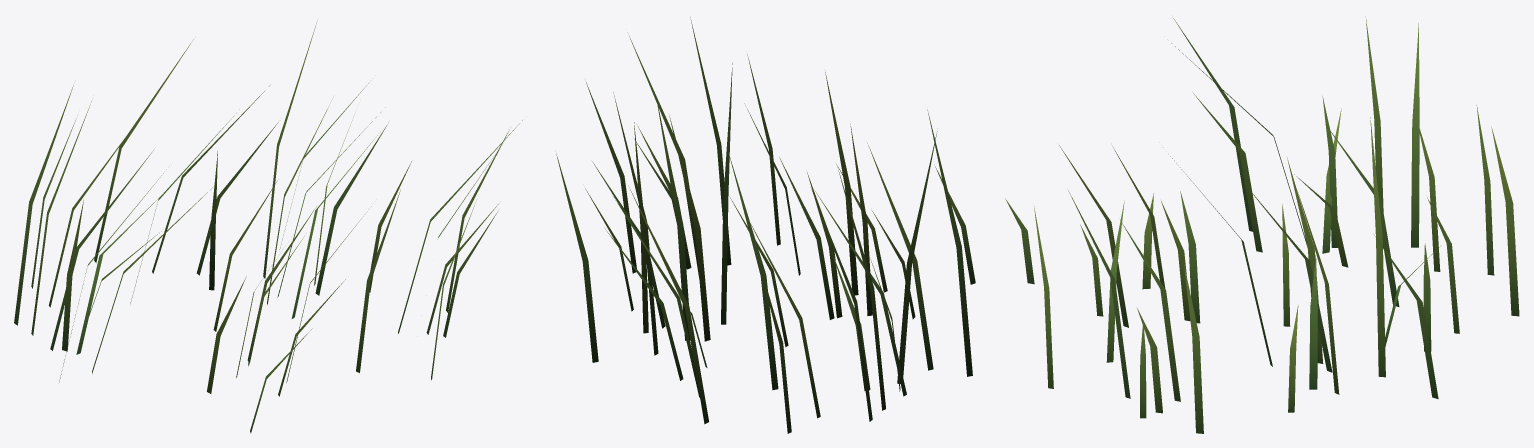
File: seagrass-b.lod1.glb
3 renders of one model, left to right at view 1: azimuth 30°, elevation 25°; view 2: azimuth 150°, elevation 25°; view 3: azimuth 270°, elevation 25°, orthographic. The views are drawn at different scales.
Visible parts, largest first — view 1: seagrass-b.lod1; view 2: seagrass-b.lod1; view 3: seagrass-b.lod1.
Part boxes in pixels (x1=…): seagrass-b.lod1: x1=14, y1=21, x2=522, y2=433; seagrass-b.lod1: x1=556, y1=17, x2=975, y2=433; seagrass-b.lod1: x1=1005, y1=17, x2=1519, y2=433.
Bounding box in the file's own units: 1.25 × 0.7195 × 1.16.
